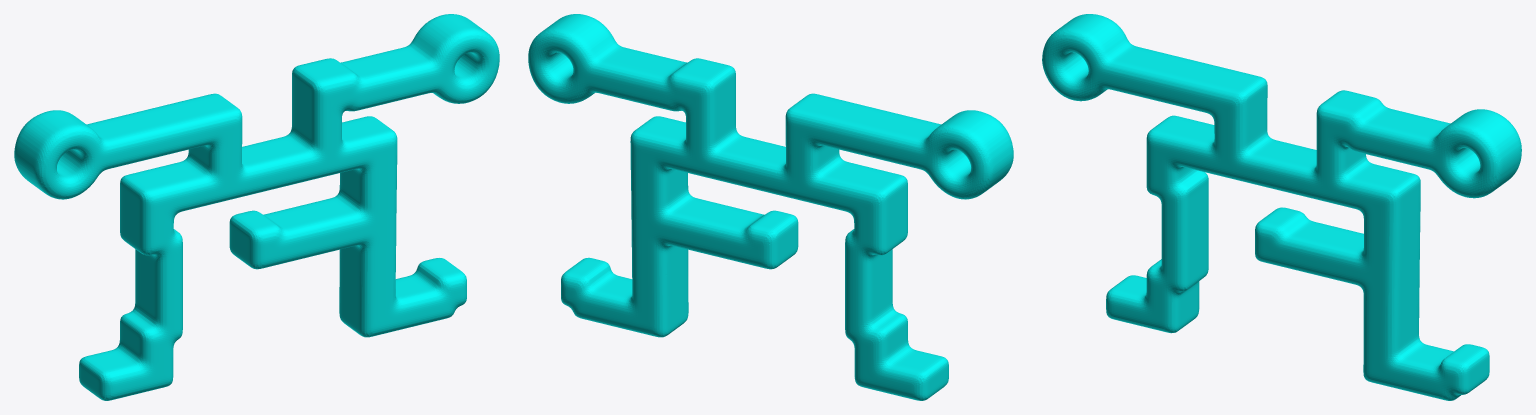
Rendered from chewmodel01.glb.
The picture shows the model from 3 angles, left to right: view 1: azimuth 30°, elevation 25°; view 2: azimuth 150°, elevation 25°; view 3: azimuth 330°, elevation 25°; orthographic projection.
Visible parts, largest first — view 1: extrude.C.G; view 2: extrude.C.G; view 3: extrude.C.G.
Part boxes in pixels (x1=…): extrude.C.G: x1=14, y1=14, x2=499, y2=400; extrude.C.G: x1=528, y1=14, x2=1013, y2=400; extrude.C.G: x1=1042, y1=14, x2=1521, y2=400.
Size of the model in its own units: 370 by 216 by 41.23.
